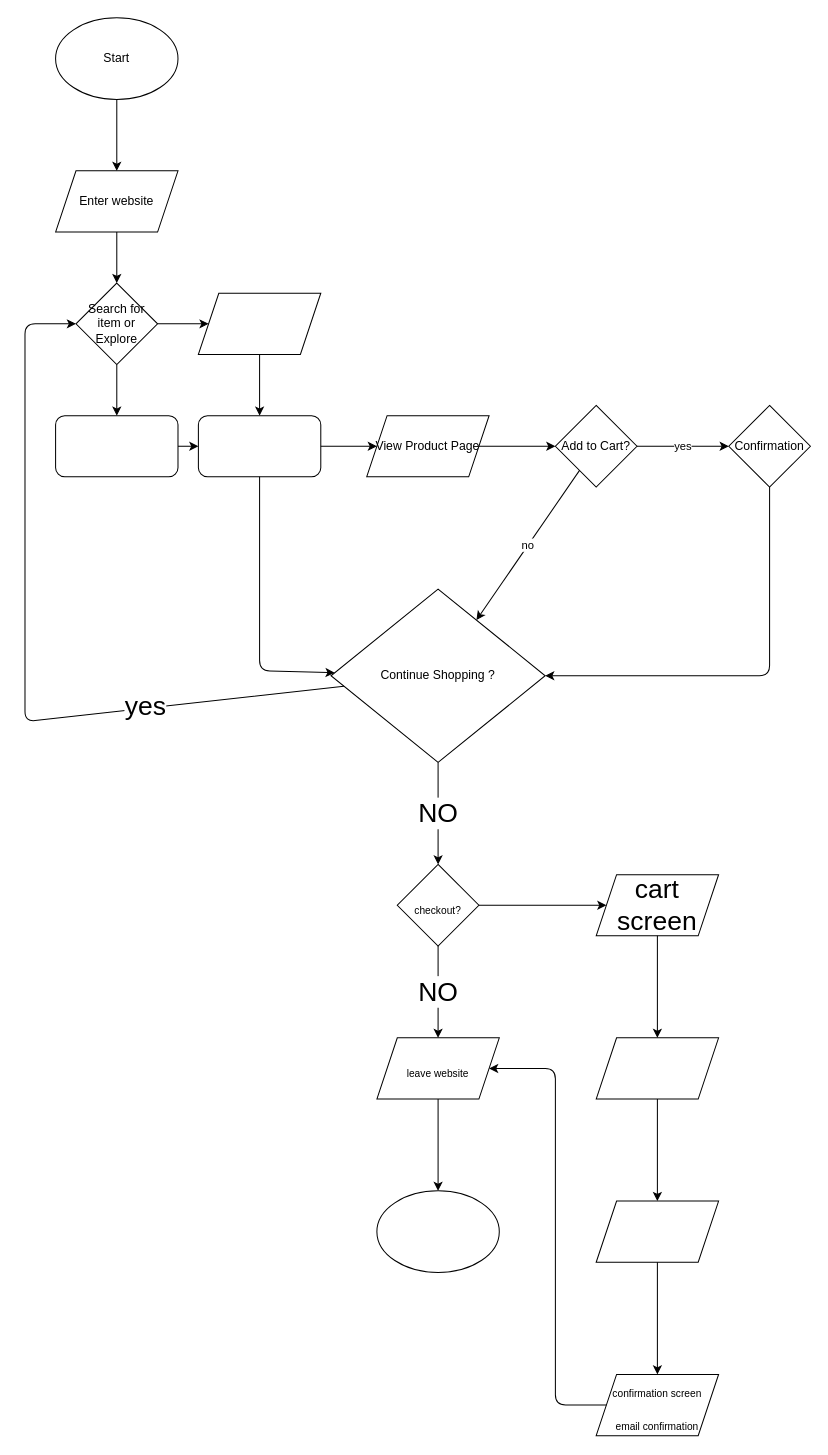
The diagram is 828 pixels wide and 1455 high, and some of its shapes have lost their labels. Here are the shapes that lost their labels. From the top down, the centre of each, then its label:
At pixel 259 323: "search for product".
At pixel 116 446: "explore".
At pixel 259 446: "Looking for Product".
At pixel 657 1068: "payment screen".
At pixel 437 1231: "end".
At pixel 657 1231: "input user information".
